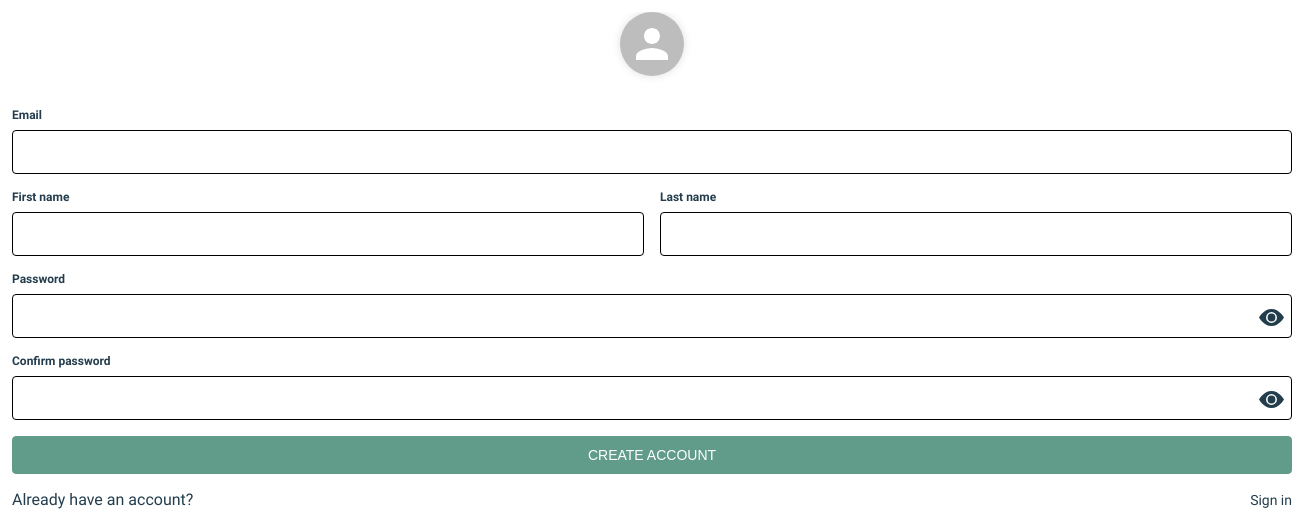
Test: RegisterForm › redirect to login page
The width and height of the screenshot is (1304, 526).
Click the link "Sign in".
click(1271, 500)  # box [1250, 492, 1292, 508]
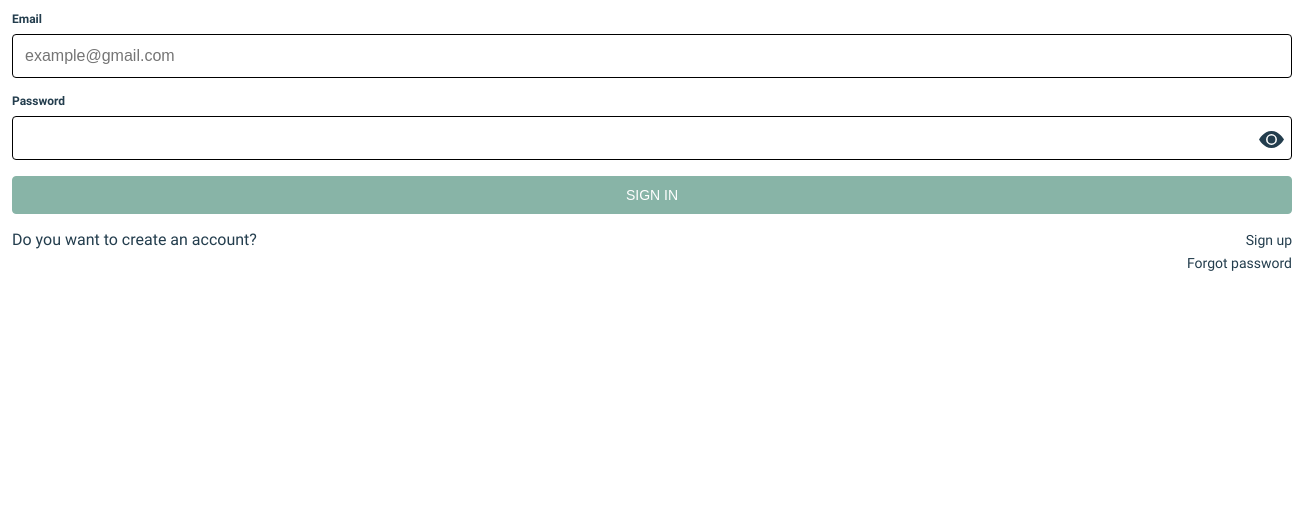
Result: the link "Sign up" is shown at [1246, 232, 1292, 248]
